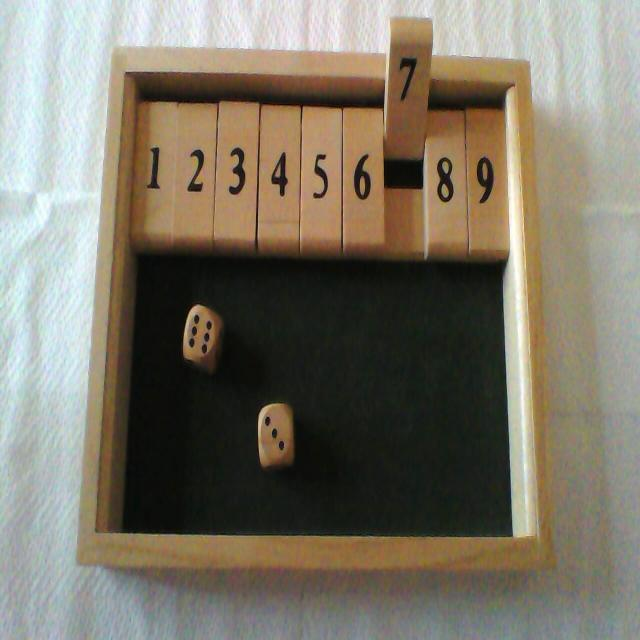3: (255, 396, 298, 472)
6: (178, 299, 227, 381)
C1: (130, 46, 178, 252)
C2: (175, 47, 218, 253)
C3: (216, 49, 259, 255)
C4: (258, 48, 300, 255)
C5: (302, 50, 341, 256)
C6: (344, 53, 383, 255)
C8: (429, 55, 468, 256)
C9: (466, 57, 508, 258)
O7: (385, 18, 433, 260)
